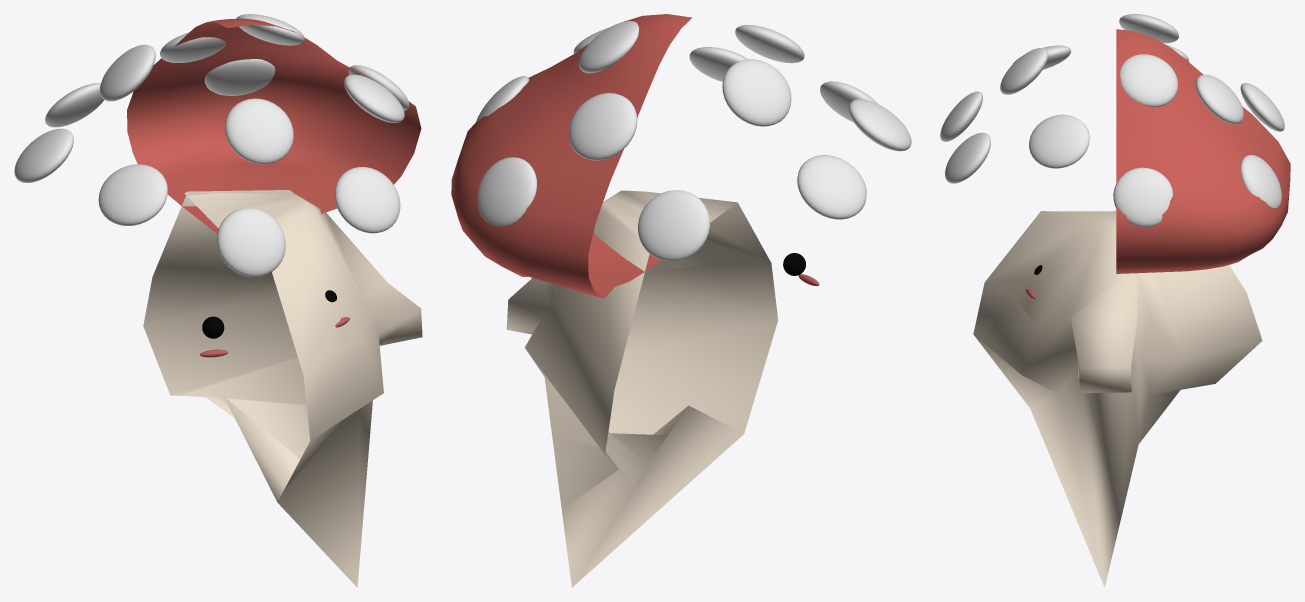
Rendered from proj2_mushie.glb.
3 renders of one model, left to right at view 1: azimuth 30°, elevation 25°; view 2: azimuth 150°, elevation 25°; view 3: azimuth 270°, elevation 25°, orthographic. The views are drawn at different scales.
Parts seen in each view (by area): view 1: Cube.001, Sphere, Sphere.009, Sphere.008, Sphere.007, Sphere.006, Sphere.016, Sphere.014, Sphere.015, Sphere.005, Sphere.013, Sphere.012 (+2 smaller); view 2: Cube.001, Sphere, Sphere.013, Sphere.015, Sphere.012, Sphere.016, Sphere.014, Sphere.006, Sphere.011, Sphere.008, Sphere.007, Sphere.009 (+1 smaller); view 3: Cube.001, Sphere, Sphere.010, Sphere.005, Sphere.011, Sphere.012, Sphere.007, Sphere.014, Sphere.008, Sphere.009, Sphere.013, Sphere.015.
Boxes of the visible parts, box(x1,y1,x2,y2) form: Cube.001: box(143, 190, 422, 587); Sphere: box(127, 18, 421, 234); Sphere.009: box(217, 208, 285, 276); Sphere.008: box(225, 98, 293, 164); Sphere.007: box(334, 167, 400, 233); Sphere.006: box(98, 164, 167, 225); Sphere.016: box(14, 128, 73, 182); Sphere.014: box(204, 59, 275, 95); Sphere.015: box(99, 44, 155, 101); Sphere.005: box(344, 74, 404, 123); Sphere.013: box(45, 83, 103, 127); Sphere.012: box(160, 32, 226, 62); Cube.001: box(506, 190, 778, 587); Sphere: box(451, 14, 691, 298); Sphere.013: box(638, 190, 709, 261); Sphere.015: box(722, 59, 791, 126); Sphere.012: box(568, 93, 637, 160); Sphere.016: box(797, 155, 866, 219); Sphere.014: box(477, 157, 536, 226); Sphere.006: box(848, 99, 911, 151); Sphere.011: box(579, 21, 638, 73); Sphere.008: box(735, 24, 804, 63); Sphere.007: box(689, 47, 747, 81); Sphere.009: box(820, 81, 878, 122); Cube.001: box(973, 211, 1262, 587); Sphere: box(1116, 29, 1290, 273); Sphere.010: box(1113, 167, 1172, 227); Sphere.005: box(1029, 114, 1089, 168); Sphere.011: box(1120, 54, 1177, 106); Sphere.012: box(1195, 74, 1243, 124); Sphere.007: box(945, 132, 990, 183); Sphere.014: box(1240, 155, 1281, 208); Sphere.008: box(1000, 48, 1048, 94); Sphere.009: box(940, 91, 982, 141); Sphere.013: box(1240, 83, 1284, 131); Sphere.015: box(1119, 14, 1178, 43).
Bounding box in the file's own units: 3 × 4.42 × 2.77.
